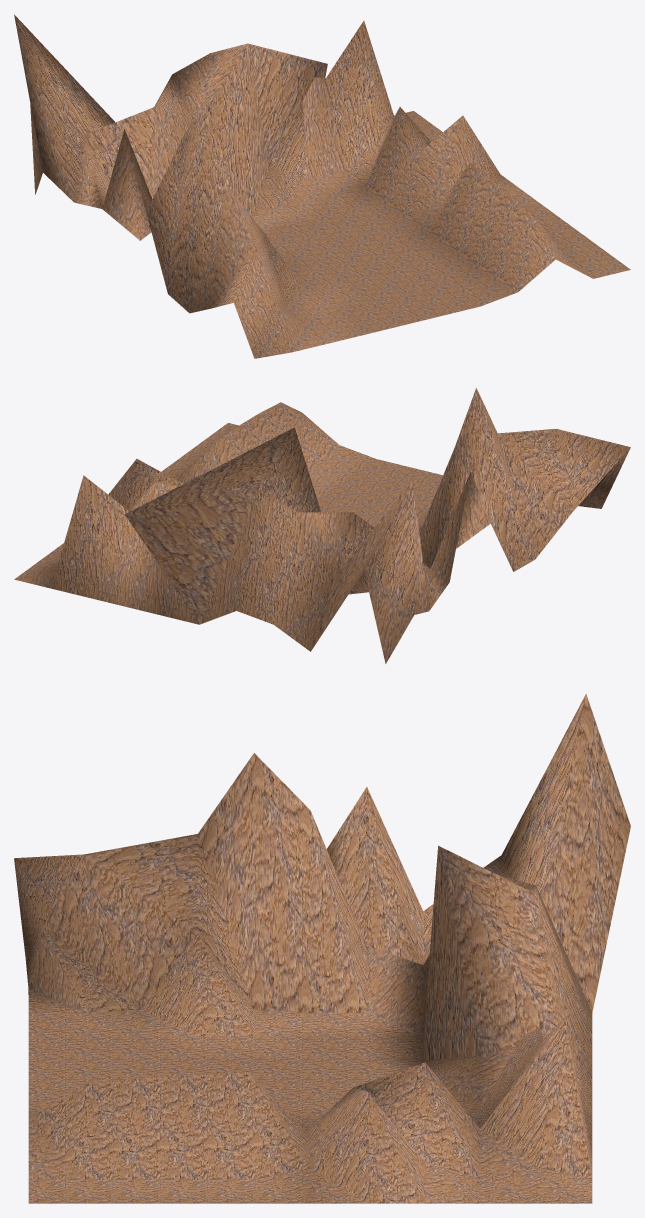
Rendered from mountain.fbx.
3 views of the same model, one above another, from view 1: azimuth 30°, elevation 25°; view 2: azimuth 150°, elevation 25°; view 3: azimuth 270°, elevation 25° (orthographic). The views are drawn at different scales.
Visible parts, largest first — view 1: pPlane1; view 2: pPlane1; view 3: pPlane1.
Part boxes in pixels (x1,y1,x2,y2): pPlane1: [14, 14, 630, 358]; pPlane1: [14, 388, 630, 663]; pPlane1: [14, 694, 630, 1203].
Bounding box in the file's own units: 26.11 × 12.18 × 26.68.
Materials: 1 (1 with a texture image).
